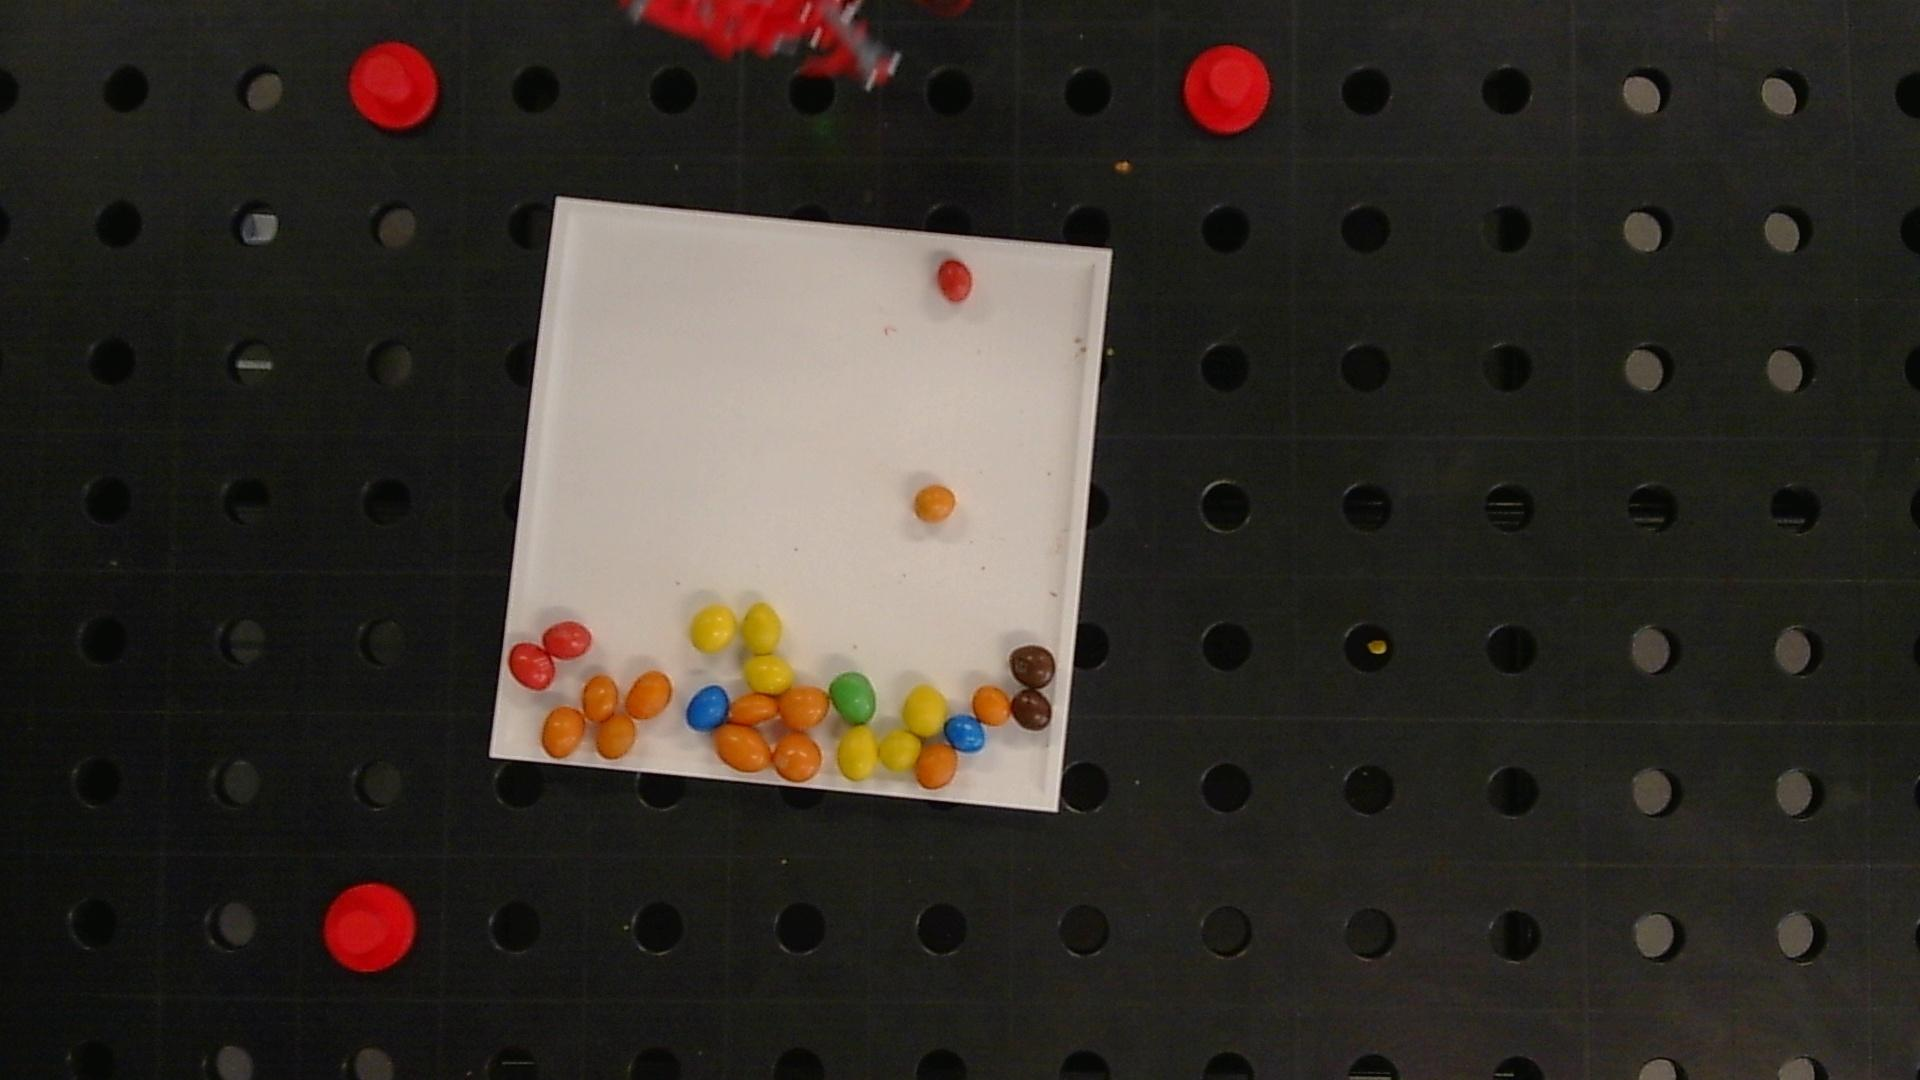blue: (686, 684, 729, 729), (944, 716, 985, 752)
brown: (1009, 644, 1056, 687), (1009, 690, 1052, 729)
green: (831, 673, 877, 724)
orange: (715, 724, 771, 771), (771, 735, 823, 781), (542, 705, 587, 757), (625, 671, 673, 719), (778, 686, 829, 729), (915, 744, 957, 789), (596, 713, 636, 758), (583, 675, 618, 721), (729, 694, 779, 725), (972, 686, 1011, 725), (918, 487, 955, 520)
red: (508, 642, 555, 690), (543, 621, 592, 659), (938, 260, 973, 302)
yellow: (837, 727, 878, 781), (903, 686, 947, 736), (691, 605, 737, 651), (744, 603, 782, 653), (745, 655, 793, 694), (880, 729, 922, 770)
